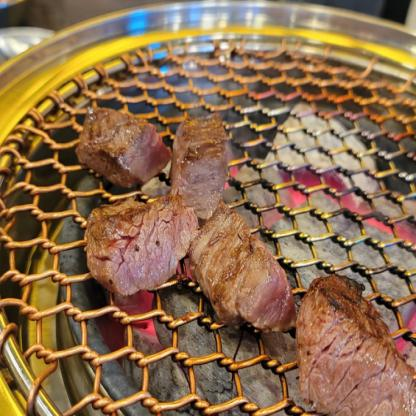Carne: (293, 267, 415, 415), (185, 205, 298, 344), (82, 190, 192, 286), (75, 100, 170, 190), (169, 108, 234, 230)
